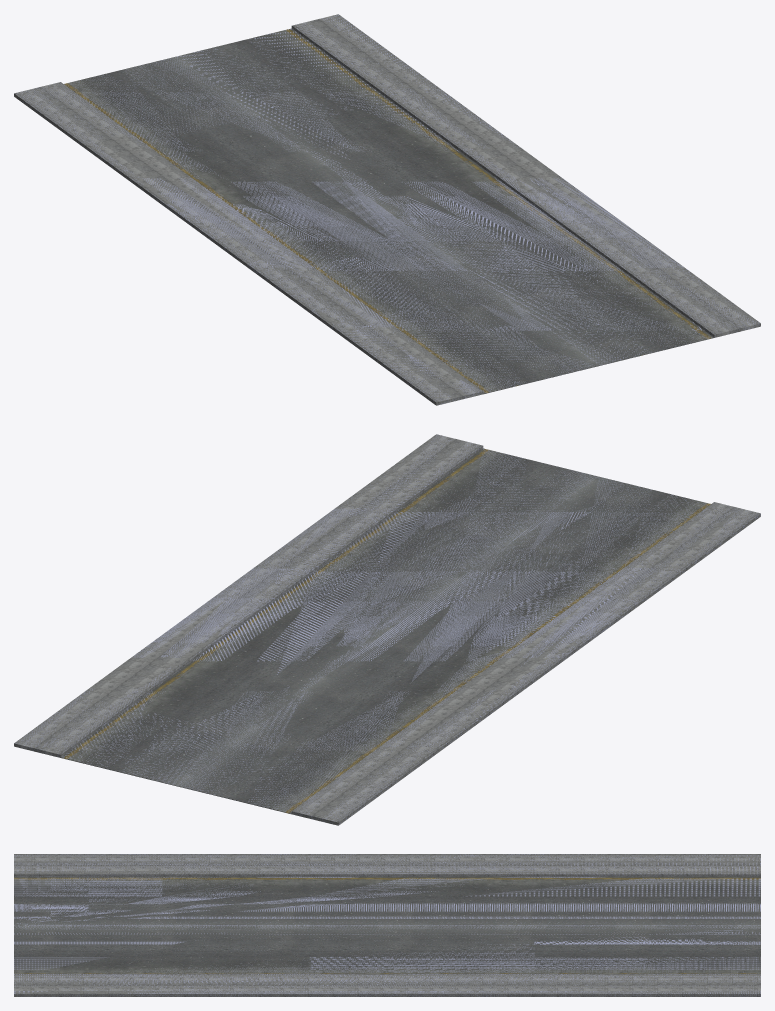
3 renders of one model, top to bottom at view 1: azimuth 30°, elevation 25°; view 2: azimuth 150°, elevation 25°; view 3: azimuth 270°, elevation 25°, orthographic. The views are drawn at different scales.
Parts seen in each view (by area): view 1: SketchUp (×3); view 2: SketchUp (×3); view 3: SketchUp (×3).
Boxes of the visible parts, bbox=[...] form: SketchUp (×3): bbox=[14, 14, 760, 405]; SketchUp (×3): bbox=[14, 434, 760, 825]; SketchUp (×3): bbox=[14, 854, 760, 996].
Bounding box in the file's own units: 289 × 651 × 2.76.
Materials: 3 (2 with a texture image).
